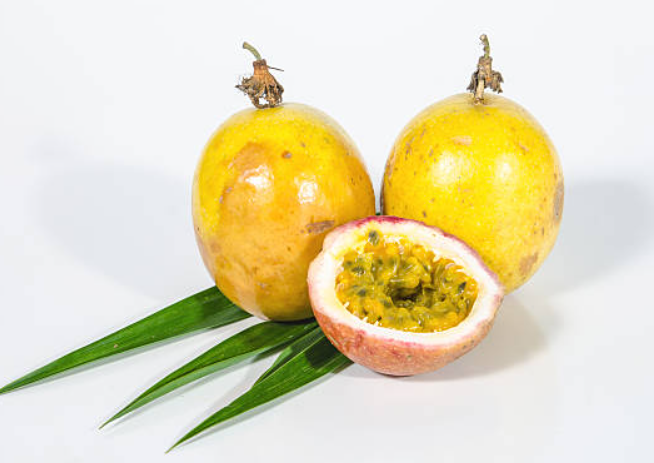maracuya: (189, 96, 377, 337), (376, 89, 566, 301)
